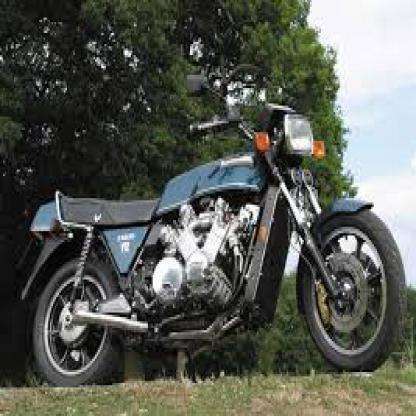Motorcycle: (8, 31, 408, 383)
